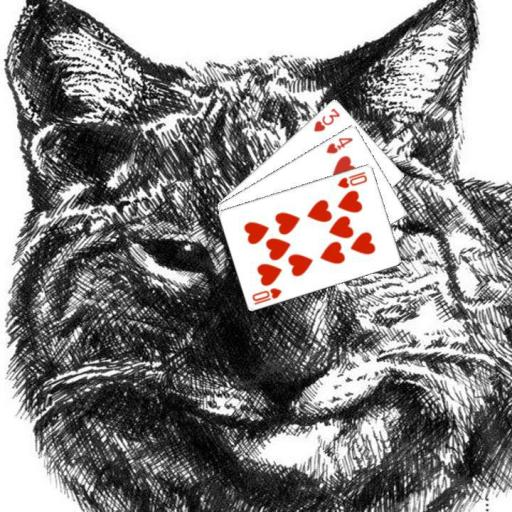10H: (249, 284, 283, 306), (335, 168, 369, 189)
3H: (311, 105, 341, 133)
4H: (323, 134, 354, 155)
